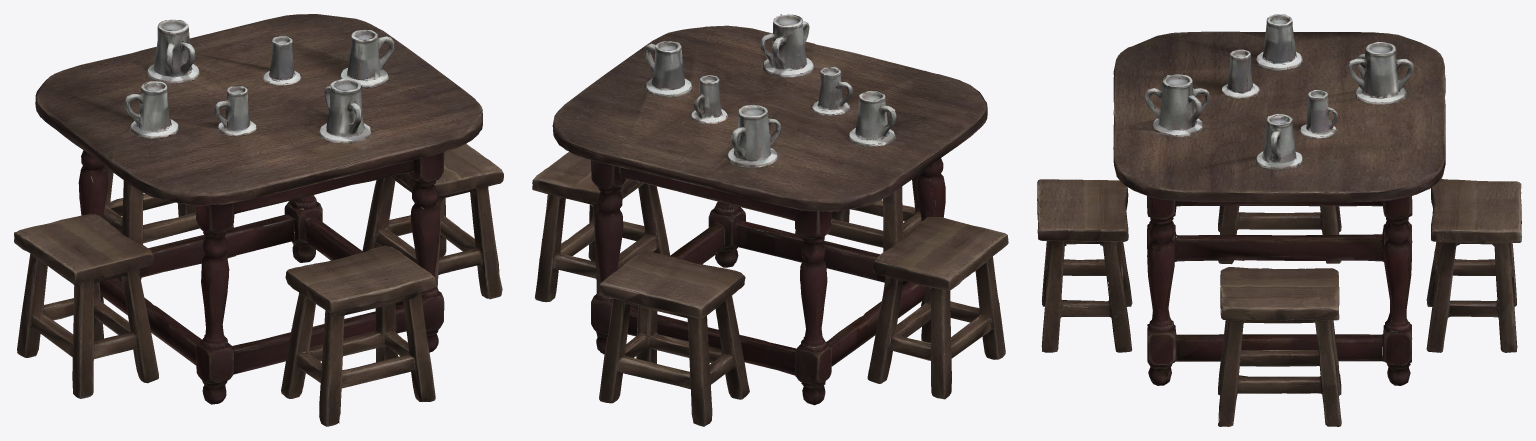
The model's file is tavern-table-set.glb.
3 renders of one model, left to right at view 1: azimuth 30°, elevation 25°; view 2: azimuth 150°, elevation 25°; view 3: azimuth 270°, elevation 25°, orthographic. The views are drawn at different scales.
Visible parts, largest first — view 1: Mesh_0; view 2: Mesh_0; view 3: Mesh_0.
Part boxes in pixels (x1,y1,x2,y2): Mesh_0: [14, 14, 503, 426]; Mesh_0: [532, 14, 1008, 426]; Mesh_0: [1037, 14, 1521, 426].
Size of the model in its own units: 1.9 by 1.17 by 1.9.
1 material, 1 textured.
